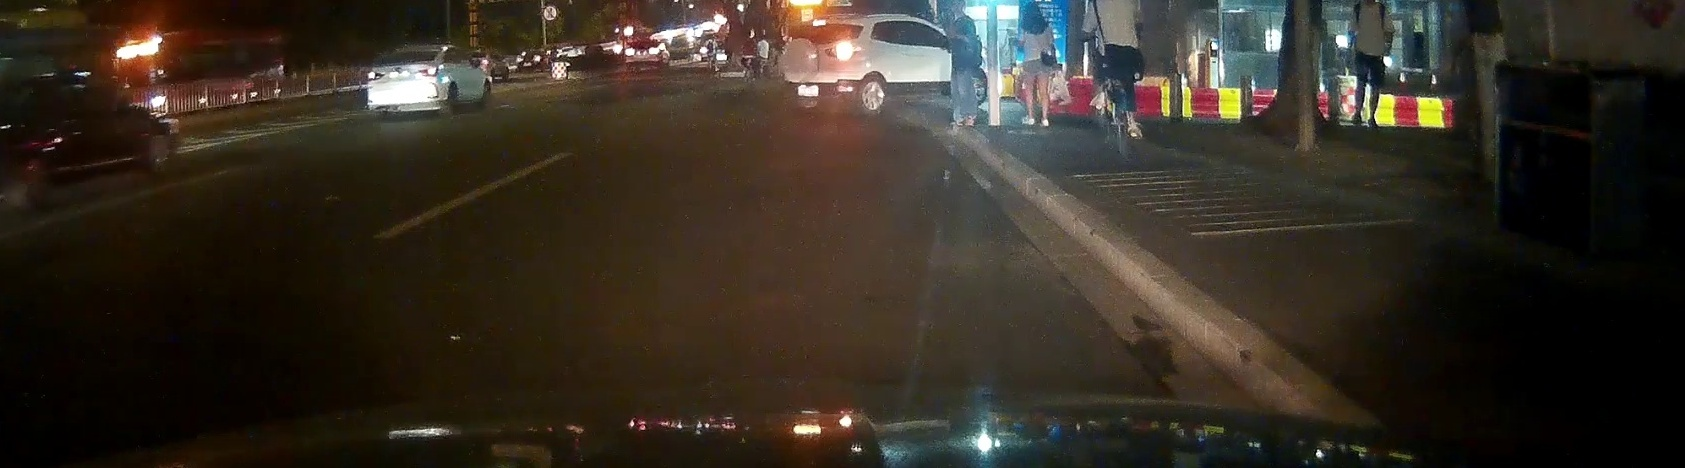L_light: (366, 71, 384, 81), (780, 45, 791, 58)
R_light: (825, 40, 860, 59), (418, 65, 440, 77)
T_light: (812, 20, 826, 26), (405, 52, 418, 55)
night-brake: (780, 13, 869, 112)
night-no: (366, 45, 444, 113)
